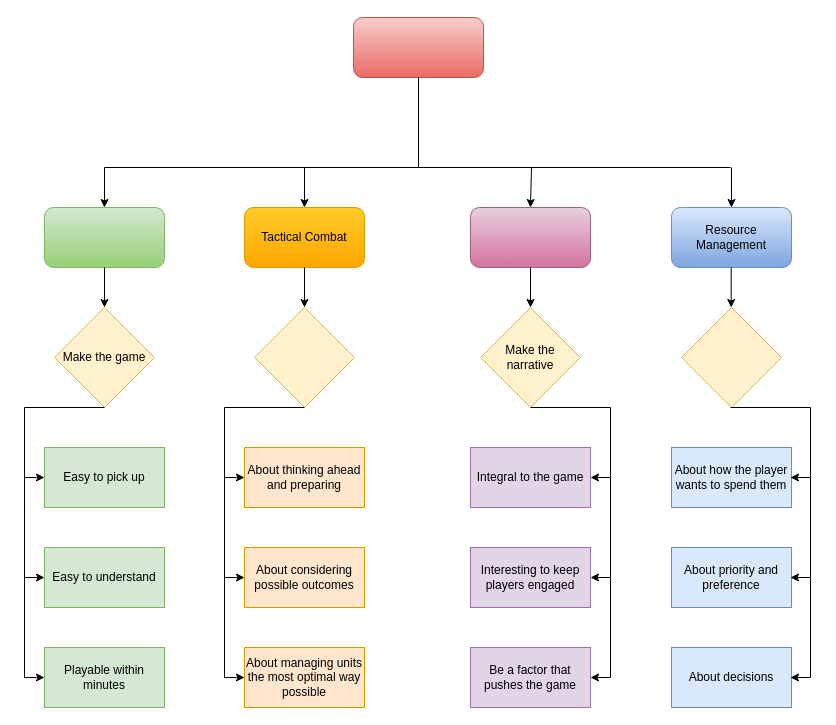
The diagram is 836 pixels wide and 725 high, and some of its shapes have lost their labels. Each missing label, with the centre of its shape:
"Accessible" belongs at pixel 104 237.
"Define the gameplay" belongs at pixel 304 357.
"Game Pillars" belongs at pixel 418 47.
"Make the gameplay" belongs at pixel 731 357.
"Story Driven" belongs at pixel 530 237.
